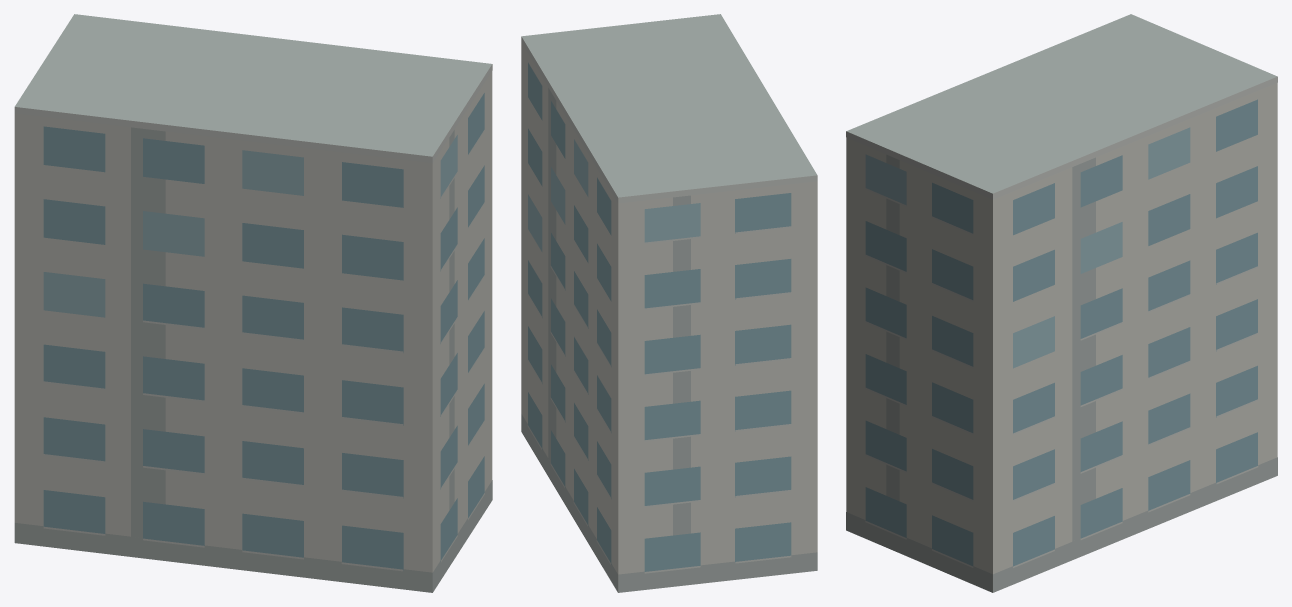
The model's file is survey-upis-32935599.glb.
3 views of the same model, side by side, from view 1: azimuth 30°, elevation 25°; view 2: azimuth 150°, elevation 25°; view 3: azimuth 270°, elevation 25° (orthographic). The views are drawn at different scales.
Visible parts, largest first — view 1: survey-upis-32935599.tmp; view 2: survey-upis-32935599.tmp; view 3: survey-upis-32935599.tmp.
Boxes of the visible parts, <box> form: survey-upis-32935599.tmp: <box>14,14,492,592</box>; survey-upis-32935599.tmp: <box>521,14,817,592</box>; survey-upis-32935599.tmp: <box>846,14,1277,592</box>.
Bounding box in the file's own units: 15.36 × 15.9 × 15.59.
